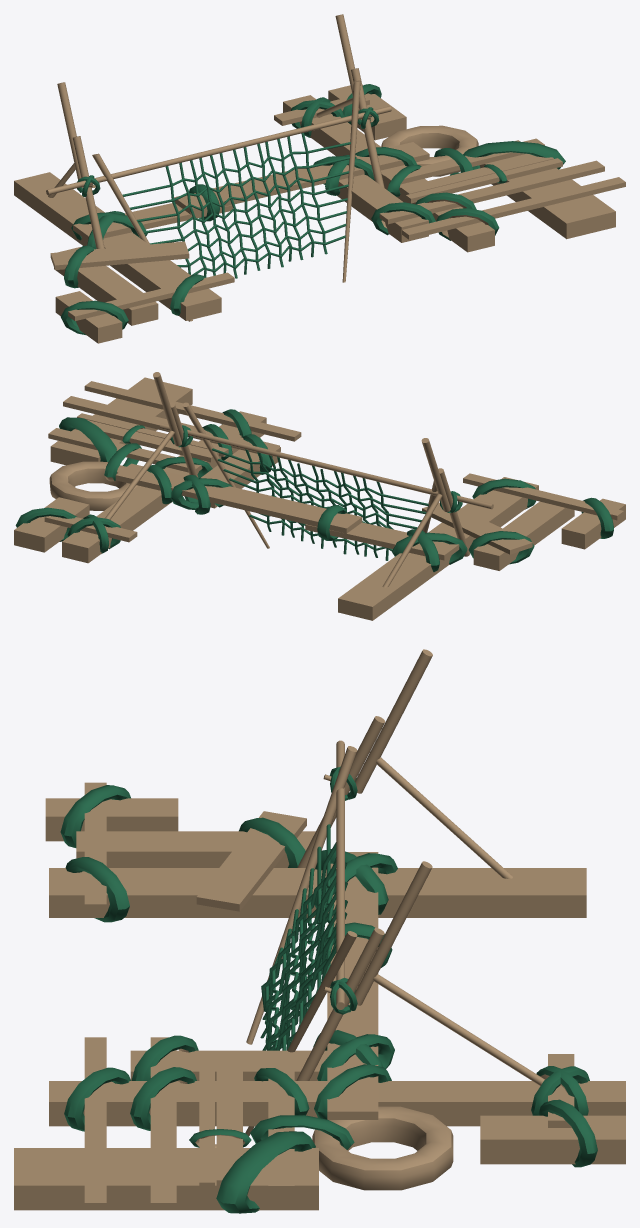
The model's file is Resource_Net.fbx.
3 views of the same model, one above another, from view 1: azimuth 30°, elevation 25°; view 2: azimuth 150°, elevation 25°; view 3: azimuth 270°, elevation 25° (orthographic). The views are drawn at different scales.
Parts seen in each view (by area): view 1: Resource_Net; view 2: Resource_Net; view 3: Resource_Net.
Boxes of the visible parts, x1,y1,x2,y2 form: Resource_Net: (14, 14, 625, 343); Resource_Net: (14, 372, 625, 620); Resource_Net: (14, 649, 625, 1213).
Bounding box in the file's own units: 141 × 52.77 × 86.57.
